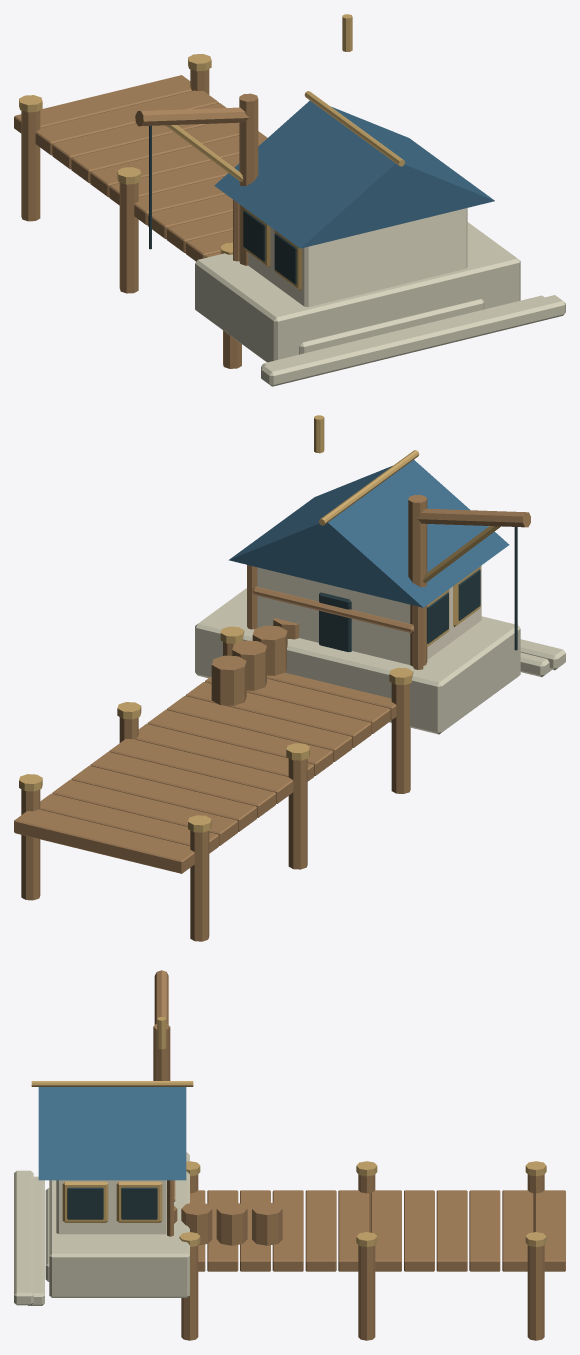
File: level_18.glb
3 views of the same model, one above another, from view 1: azimuth 30°, elevation 25°; view 2: azimuth 150°, elevation 25°; view 3: azimuth 270°, elevation 25° (orthographic). The views are drawn at different scales.
Visible parts, largest first — view 1: fishing_wharf — level 18; view 2: fishing_wharf — level 18; view 3: fishing_wharf — level 18.
Part boxes in pixels (x1,y1,x2,y2): fishing_wharf — level 18: (14, 14, 565, 386); fishing_wharf — level 18: (14, 415, 565, 941); fishing_wharf — level 18: (14, 970, 565, 1340).
Size of the model in its own units: 4.84 by 4.53 by 7.84.
